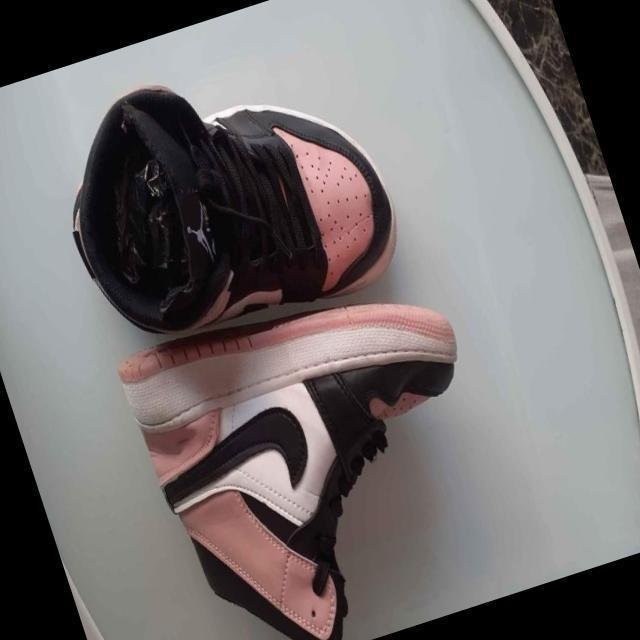nike fake jordan 1: (99, 266, 537, 640), (36, 25, 414, 367)
